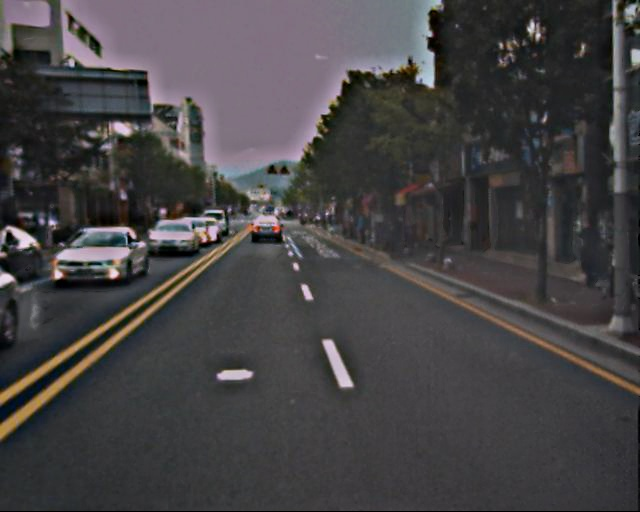person: (572, 217, 603, 289)
